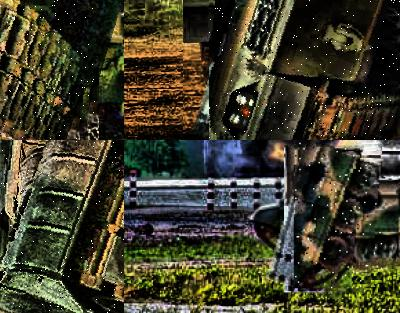tanks: (211, 1, 400, 141), (1, 141, 125, 313), (1, 1, 96, 141), (295, 142, 383, 289)
